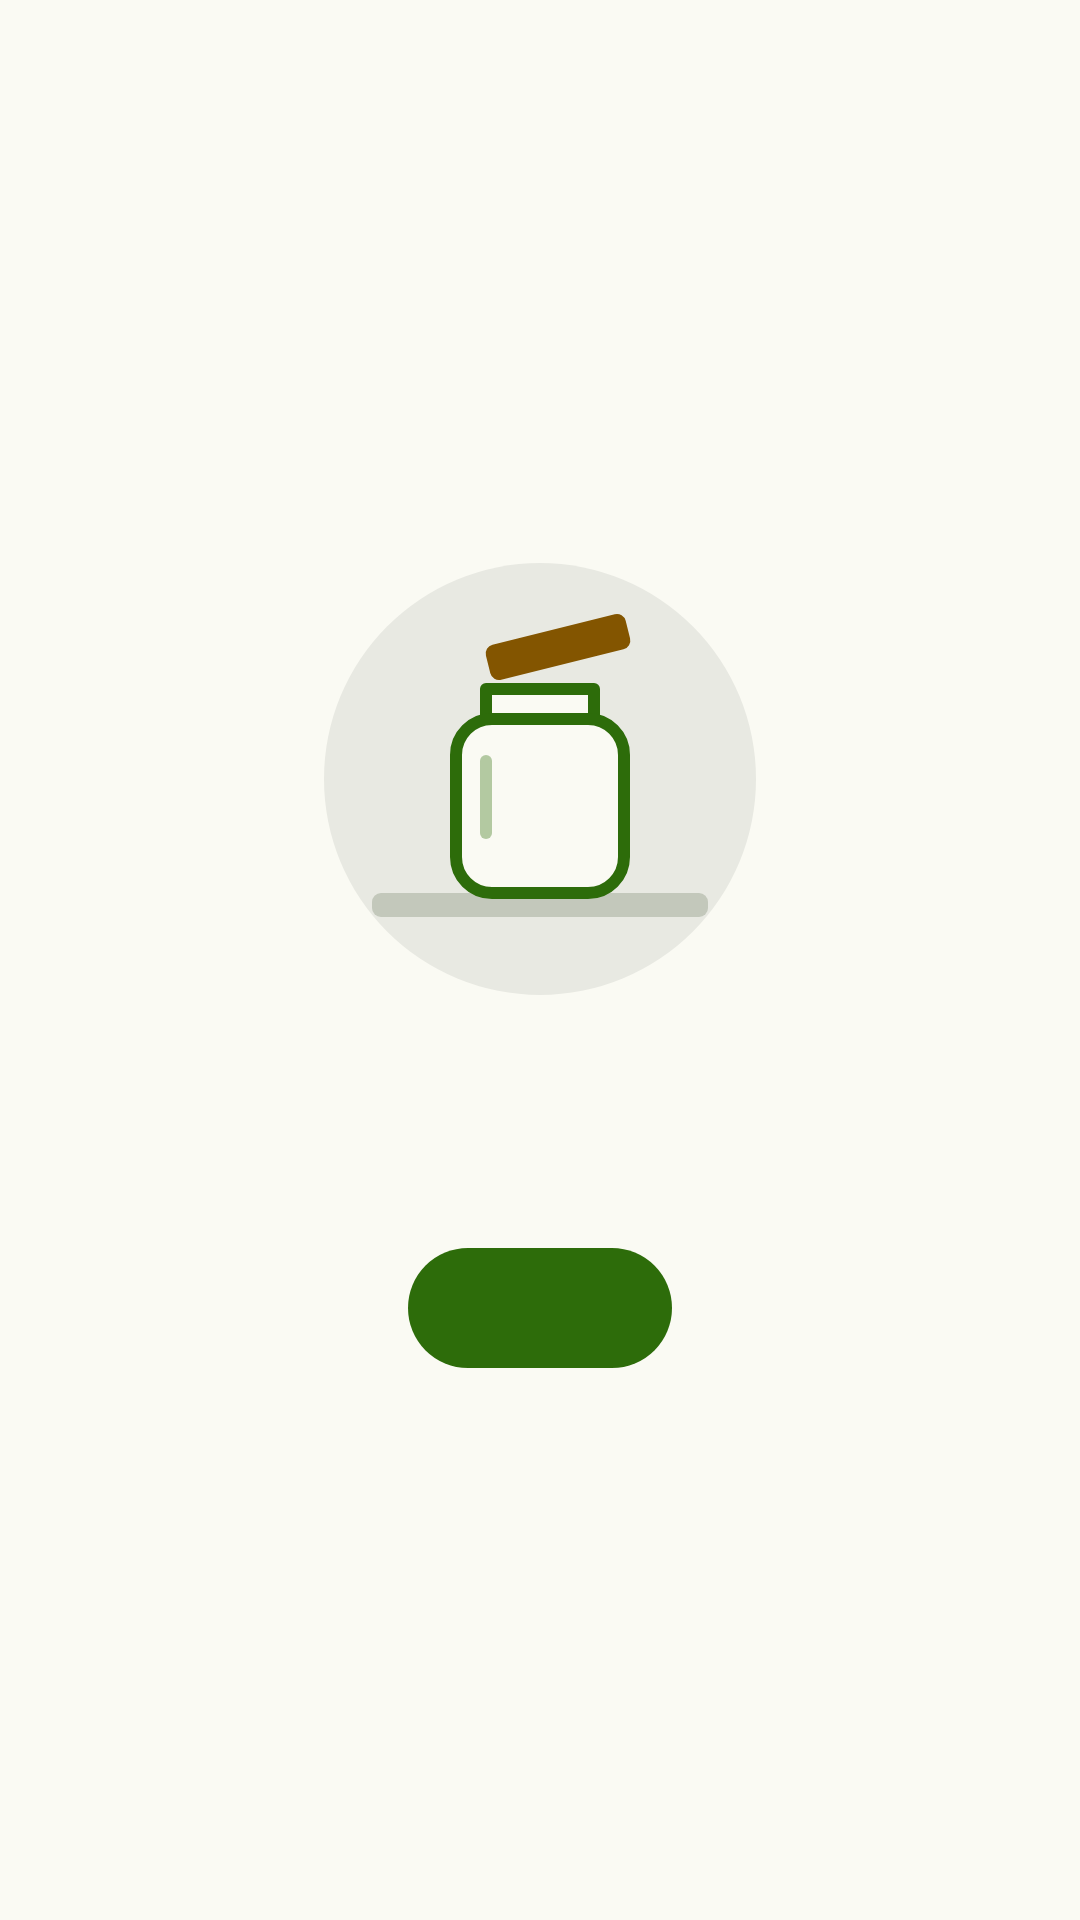

Icon bounding boxes for this 1080x1920 phone screenshot, format (x1, y1, x2, y2):
ill empty pantry: (372, 614, 708, 917)
